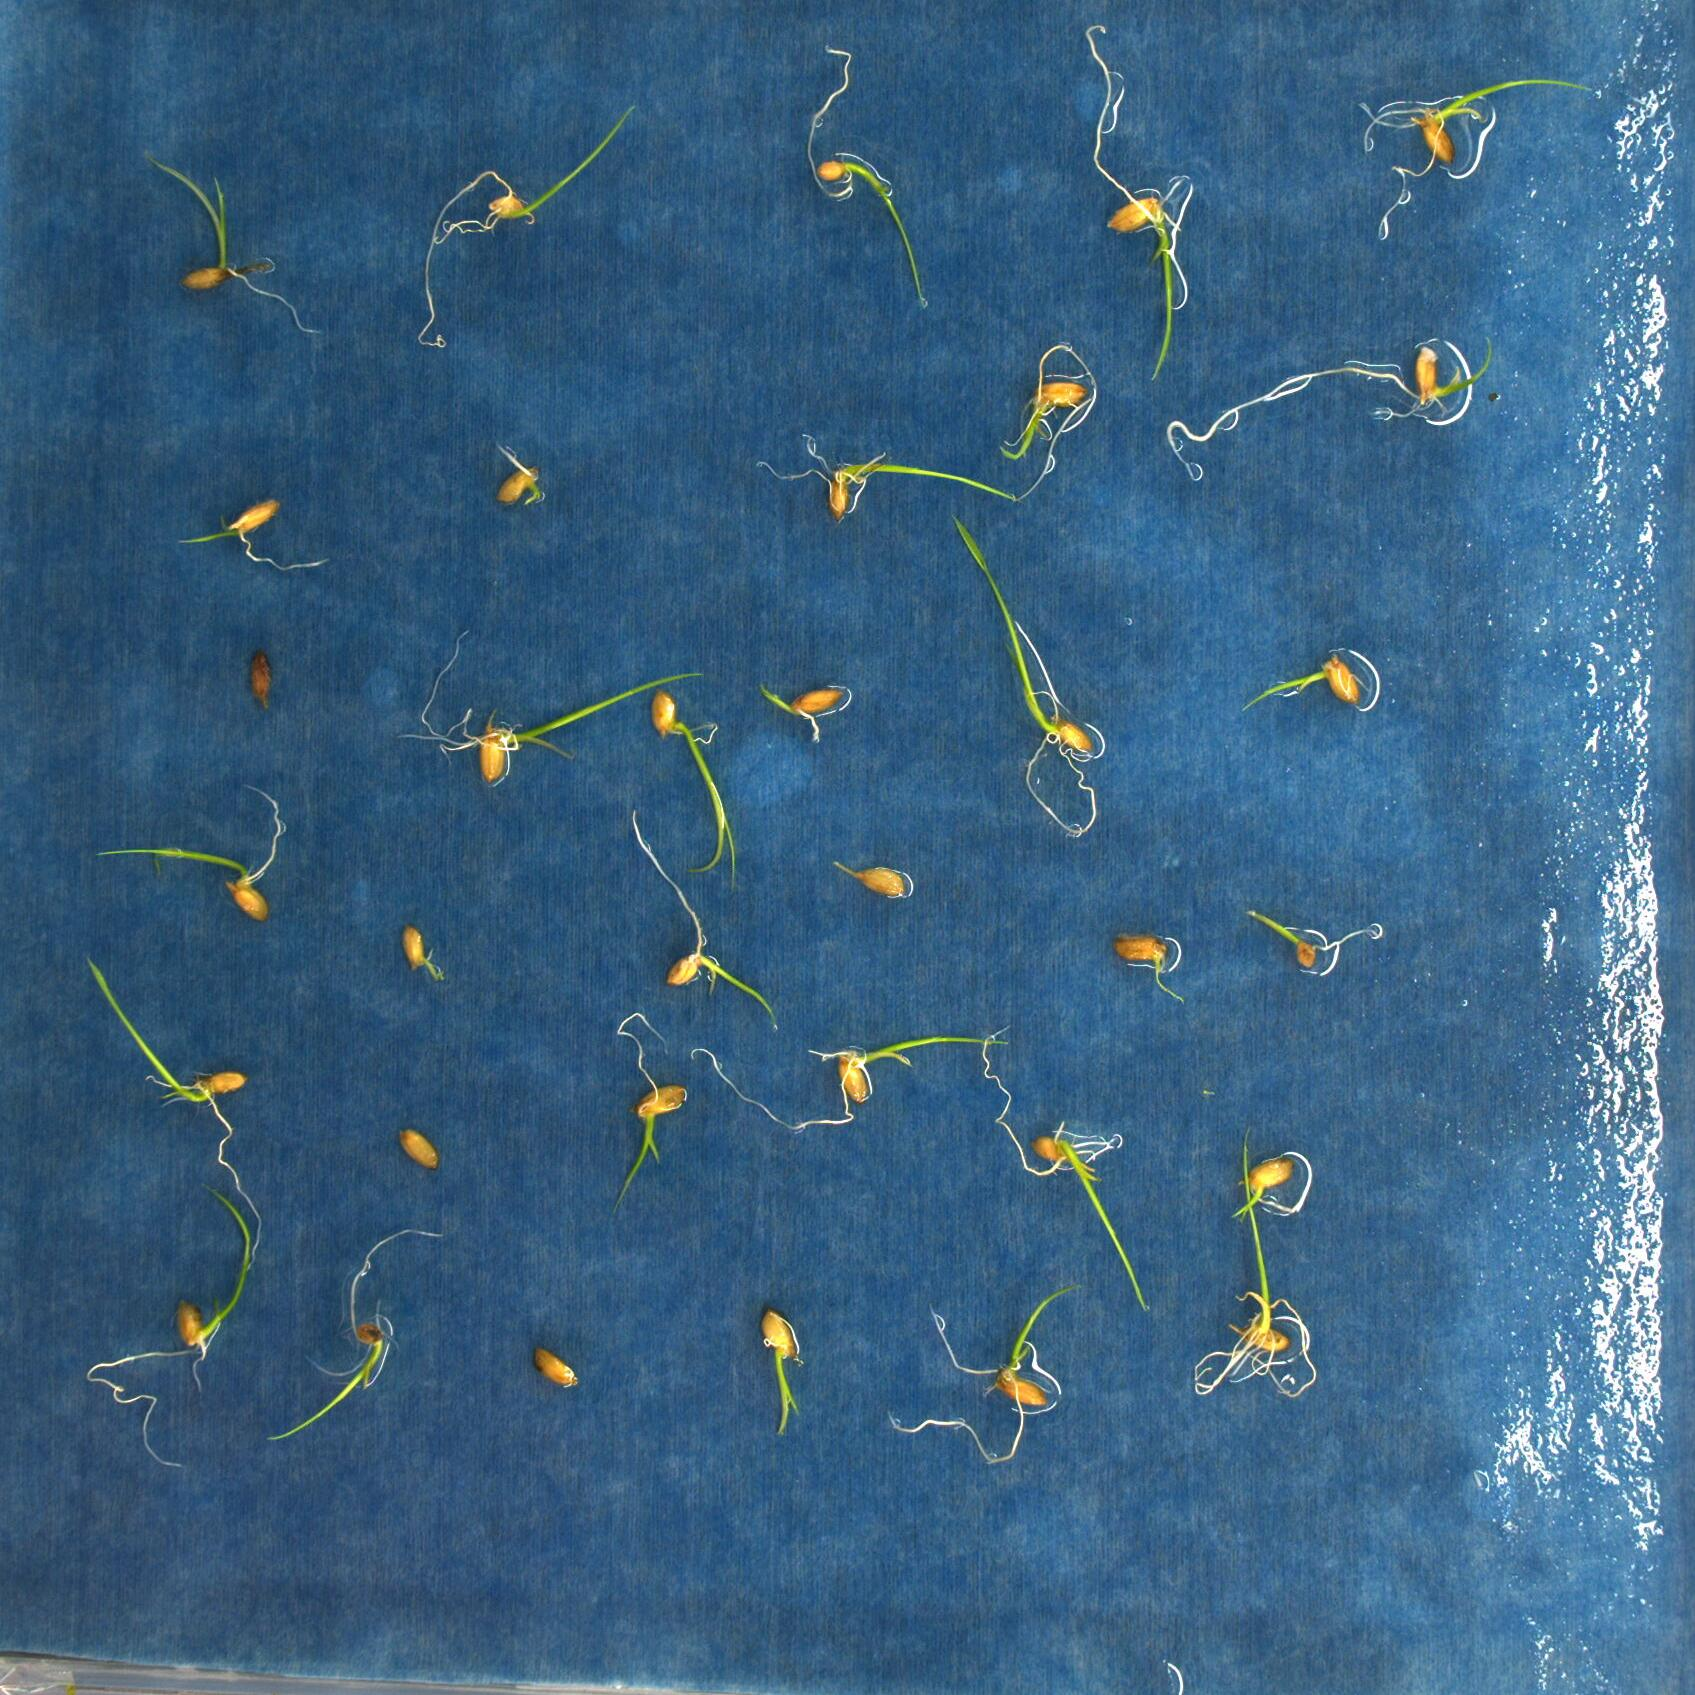not sprout: (1107, 927, 1186, 978), (838, 855, 914, 908), (244, 633, 290, 716), (382, 917, 444, 976), (391, 1118, 447, 1170), (528, 1340, 577, 1394)
sprout: (67, 1172, 282, 1478), (402, 65, 643, 321), (71, 958, 276, 1239), (944, 497, 1108, 844), (1161, 348, 1534, 494), (979, 1023, 1158, 1310), (386, 629, 722, 781), (1062, 29, 1191, 385), (137, 141, 348, 349), (1364, 57, 1611, 234), (880, 1281, 1104, 1475), (275, 1220, 418, 1487), (790, 56, 938, 310), (685, 1029, 1024, 1138), (624, 818, 782, 1042), (88, 775, 289, 941), (1205, 1122, 1313, 1406), (751, 441, 1040, 528), (640, 685, 757, 886), (604, 1004, 706, 1234), (995, 343, 1101, 498), (179, 489, 334, 584), (1232, 900, 1397, 970), (1237, 653, 1366, 737), (753, 1309, 823, 1450), (1220, 1155, 1315, 1225), (757, 667, 844, 740), (489, 445, 551, 522)
